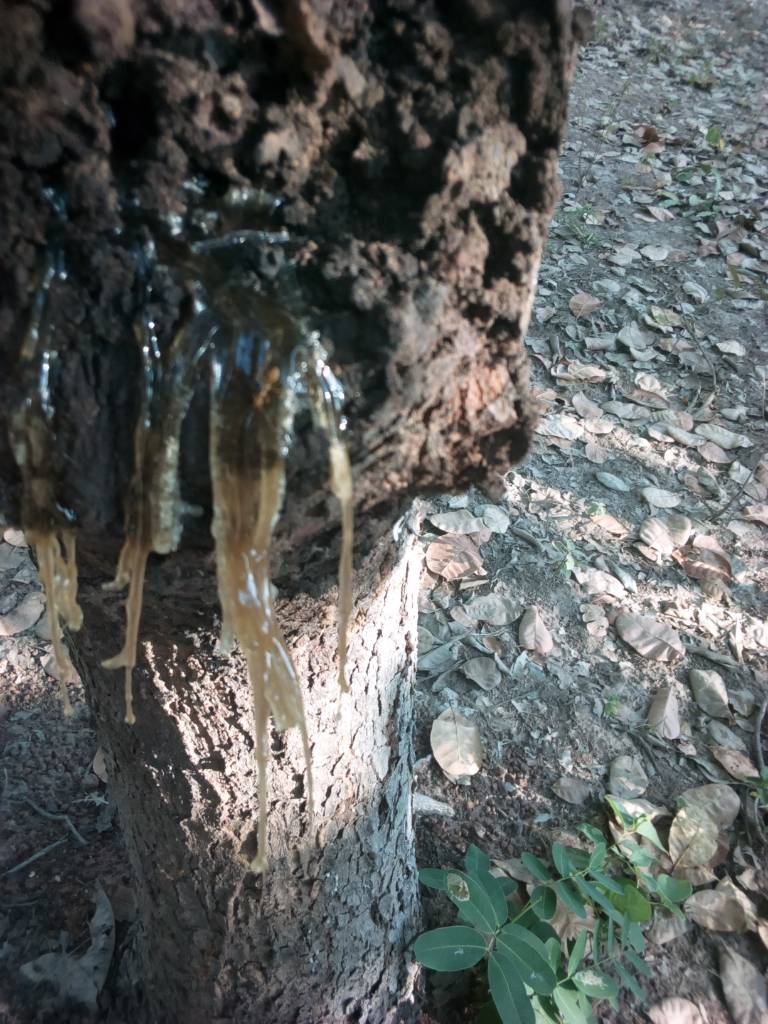Gommose: (19, 177, 346, 900)
